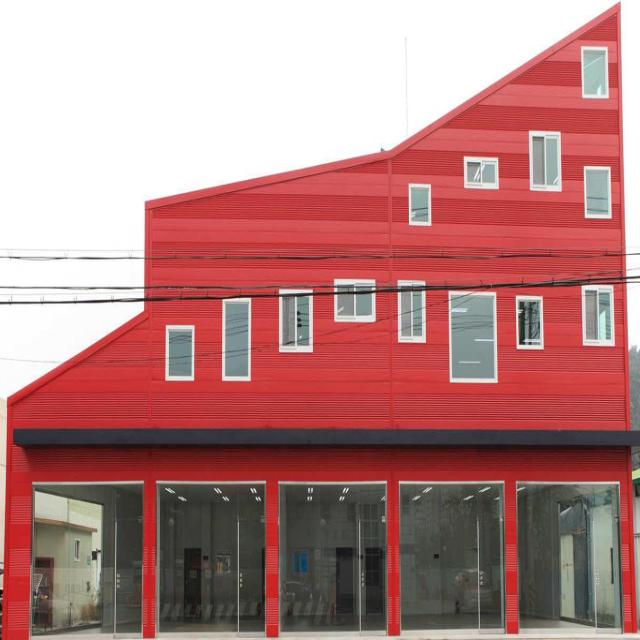door: (589, 484, 624, 639), (476, 484, 506, 639), (357, 485, 387, 639), (114, 487, 144, 638), (238, 485, 266, 639)
window: (31, 485, 144, 639), (157, 485, 265, 638), (517, 486, 624, 639), (398, 484, 502, 639), (280, 487, 385, 639), (447, 294, 498, 382), (279, 292, 313, 354), (531, 129, 564, 192), (583, 283, 615, 346), (225, 303, 250, 380), (396, 280, 426, 342), (515, 295, 545, 349), (167, 326, 194, 383), (335, 282, 376, 319), (584, 166, 612, 217), (582, 49, 609, 98), (465, 157, 499, 190), (407, 182, 431, 226)
